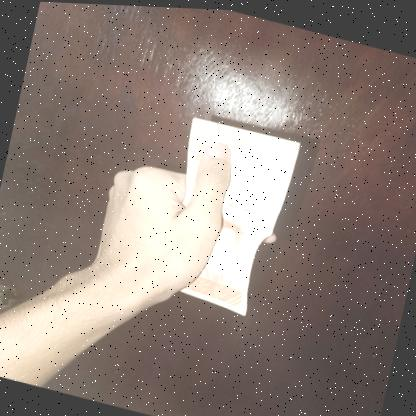vef_front: (154, 111, 300, 320)
